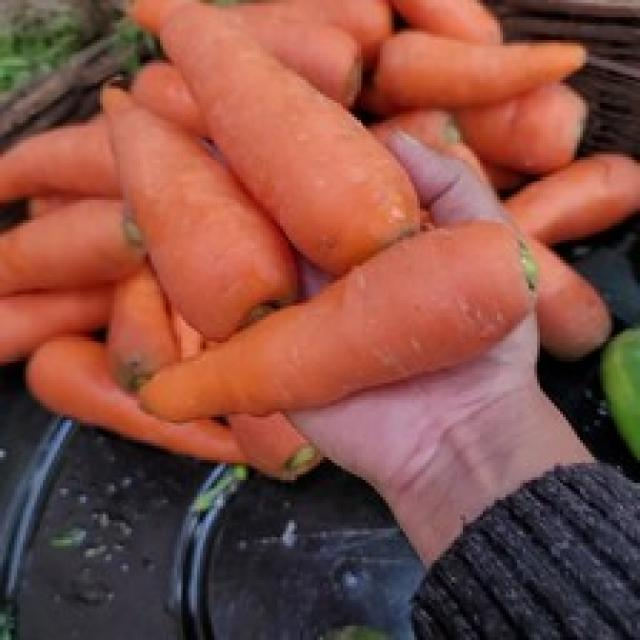Fresh_Carrot: (133, 0, 428, 256), (149, 215, 538, 397), (97, 76, 291, 348)
